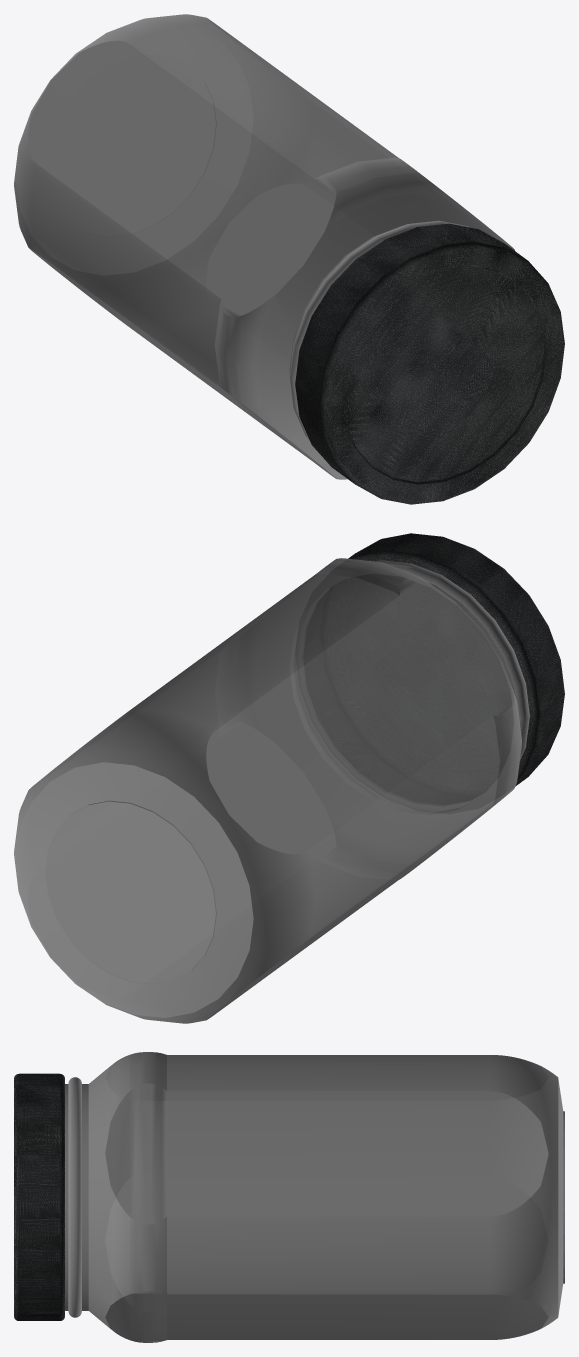
The model's file is model_scale.obj.
The picture shows the model from 3 angles, top to bottom: view 1: azimuth 30°, elevation 25°; view 2: azimuth 150°, elevation 25°; view 3: azimuth 270°, elevation 25°; orthographic projection. The views are drawn at different scales.
Visible parts, largest first — view 1: mesh2_mesh2-geometry, mesh1_mesh1-geometry; view 2: mesh2_mesh2-geometry, mesh1_mesh1-geometry; view 3: mesh2_mesh2-geometry, mesh1_mesh1-geometry.
Boxes of the visible parts, <box> form: mesh2_mesh2-geometry: <box>14,14,514,479</box>; mesh1_mesh1-geometry: <box>295,223,564,504</box>; mesh2_mesh2-geometry: <box>14,558,529,1023</box>; mesh1_mesh1-geometry: <box>303,533,564,804</box>; mesh2_mesh2-geometry: <box>65,1052,564,1342</box>; mesh1_mesh1-geometry: <box>14,1073,64,1320</box>.
Bounding box in the file's own units: 0.0679 × 0.0679 × 0.1263.
2 materials, 1 textured.
